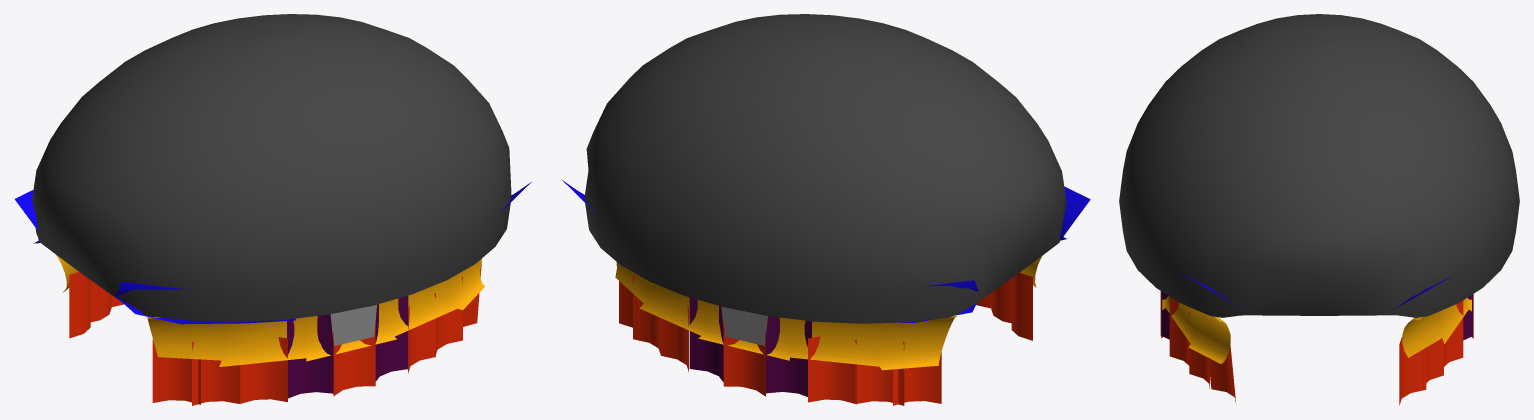
The model's file is Progeny  Dome and Side Walls.FBX.
The picture shows the model from 3 angles, left to right: view 1: azimuth 30°, elevation 25°; view 2: azimuth 150°, elevation 25°; view 3: azimuth 270°, elevation 25°; orthographic projection. The views are drawn at different scales.
Visible parts, largest first — view 1: Progeny Dome, Plane028, Plane027; view 2: Progeny Dome, Plane027, Plane028; view 3: Progeny Dome, Plane027, Plane028.
Part boxes in pixels (<box>): Progeny Dome: <box>32,14,511,322</box>; Plane028: <box>115,182,531,405</box>; Plane027: <box>14,190,123,338</box>; Progeny Dome: <box>584,14,1066,323</box>; Plane027: <box>561,179,978,405</box>; Plane028: <box>976,186,1090,340</box>; Progeny Dome: <box>1119,14,1519,317</box>; Plane027: <box>1394,274,1473,405</box>; Plane028: <box>1160,274,1242,403</box>.
Size of the model in its own units: 14.39 by 9.39 by 12.
